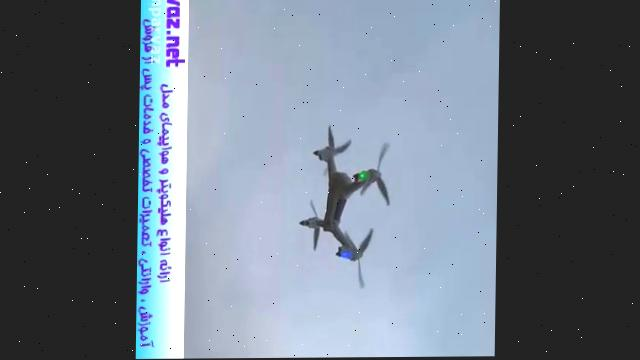drone: (296, 120, 395, 292)
